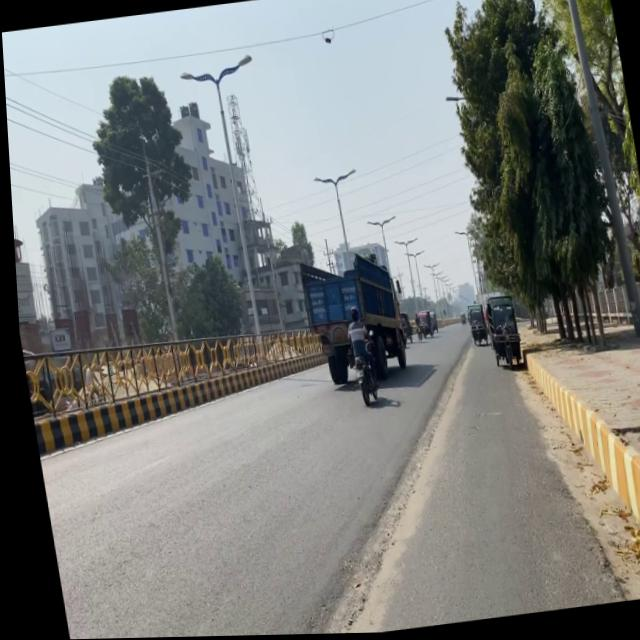Car: (516, 335, 640, 609)
Fallen-tree: (340, 336, 378, 410)
Garbage-bin: (338, 306, 376, 392)
Light-pole: (559, 0, 640, 340)
Pole: (20, 314, 278, 462)
Pothole: (472, 300, 640, 616)
Traffic-cone: (293, 247, 408, 389), (478, 295, 520, 373)
